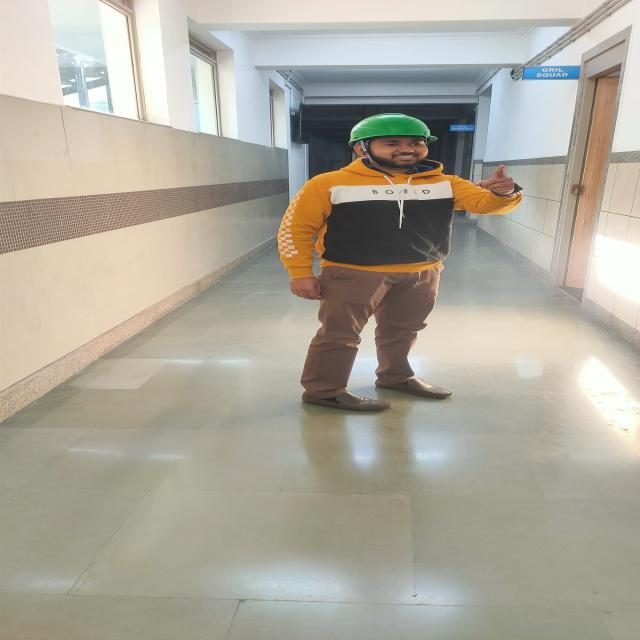no jacket: (274, 113, 524, 411)
